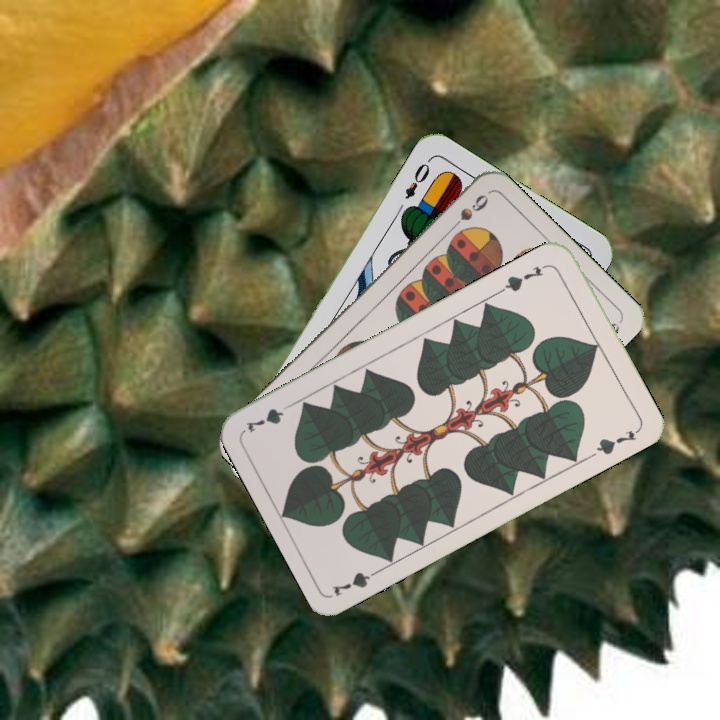EO: (401, 154, 434, 202)
G7: (328, 563, 386, 599), (497, 260, 552, 295)
S9: (444, 190, 491, 236)
